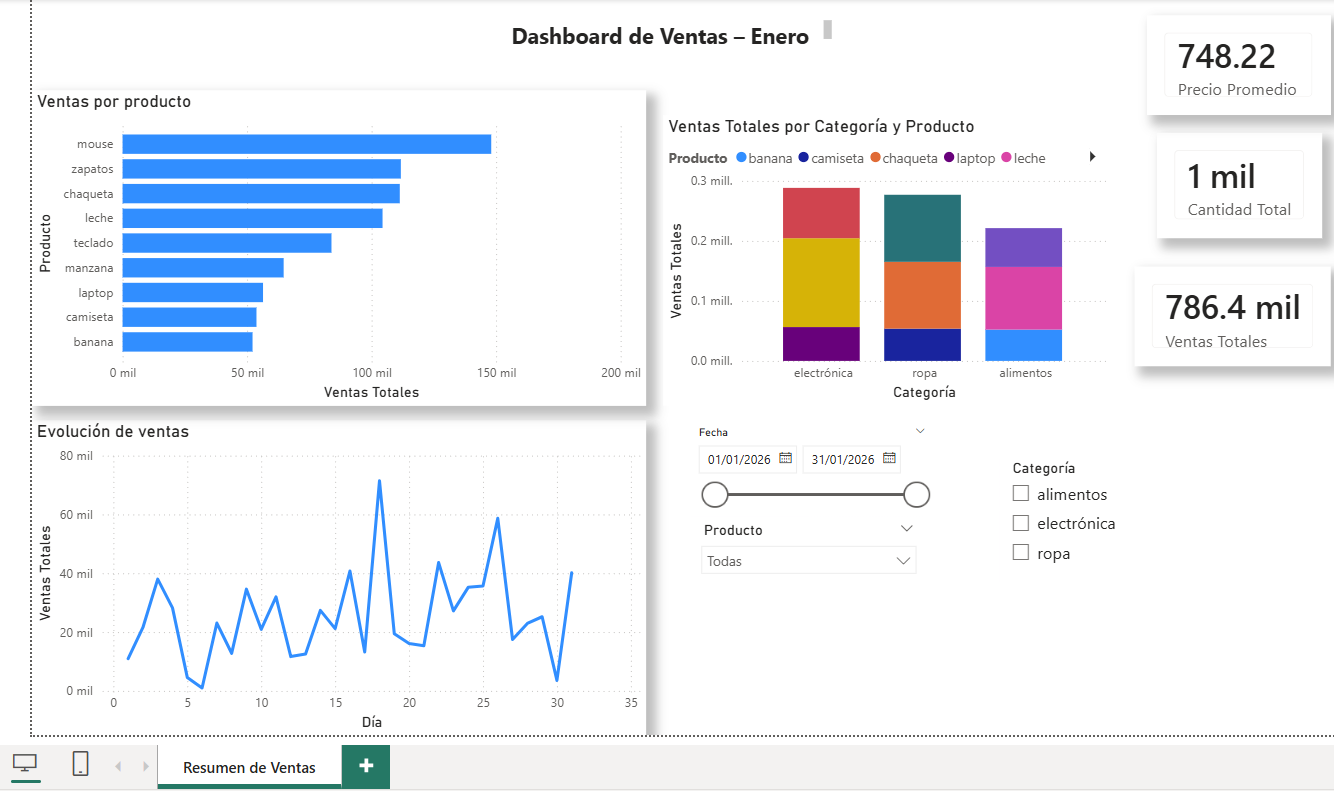

What the dashboard file says about the page in this screenshot:
{"tool":"powerbi","page":{"name":"Resumen de Ventas","canvas":[1280,720],"ordinal":0},"visuals":[{"type":"cardVisual","fields":{"Data":["ventas_limpias.Ventas Totales"]},"box":[1078.6,262.1,192.1,97.4],"z":0},{"type":"cardVisual","fields":{"Data":["ventas_limpias.Cantidad Total"]},"box":[1100.5,130.4,161.9,102.9],"z":1},{"type":"cardVisual","fields":{"Data":["ventas_limpias.Precio Promedio"]},"box":[1090.9,16.5,179.8,97.4],"z":2},{"type":"lineChart","title":"Evolución de ventas","fields":{"Category":["Dim_Fecha.Date.Variación.Jerarquía de fechas.Año","Dim_Fecha.Date.Variación.Jerarquía de fechas.Trimestre","Dim_Fecha.Date.Variación.Jerarquía de fechas.Mes","Dim_Fecha.Date.Variación.Jerarquía de fechas.Día"],"Y":["ventas_limpias.Ventas Totales"]},"box":[0,411.7,601,308.7],"z":3},{"type":"barChart","title":"Ventas por producto","fields":{"Y":["ventas_limpias.Ventas Totales"],"Category":["Dim_Producto.Producto"]},"box":[0,89.2,601,308.7],"z":4},{"type":"columnChart","fields":{"Category":["Dim_Categoría.Categoría"],"Y":["ventas_limpias.Ventas Totales"],"Series":["Dim_Producto.Producto"]},"box":[617.5,113.9,439.1,284],"z":5},{"type":"slicer","fields":{"Values":["ventas_limpias.Fecha"]},"box":[639.5,411.7,247,94.7],"z":6},{"type":"slicer","fields":{"Values":["Dim_Producto.Producto"]},"box":[644.9,506.3,230.5,60.4],"z":7},{"type":"slicer","fields":{"Values":["Dim_Producto.Categoría"]},"box":[946.8,444.6,192.1,124.9],"z":8},{"type":"textbox","box":[448.7,16.5,338.9,42.5],"z":9}]}

Visuals, with their boxes on the page's 1280x720 design canvas (x1, y1, x2, y2). These are canvas units, not pixel positions in the 1334x791 screenshot, which may show the page scaled, cropped or inside an application window:
cardVisual - ventas_limpias.Ventas Totales: box(1079, 262, 1271, 360)
cardVisual - ventas_limpias.Cantidad Total: box(1100, 130, 1262, 233)
cardVisual - ventas_limpias.Precio Promedio: box(1091, 16, 1271, 114)
"Evolución de ventas" lineChart: box(0, 412, 601, 720)
"Ventas por producto" barChart: box(0, 89, 601, 398)
columnChart - Dim_Categoría.Categoría x ventas_limpias.Ventas Totales: box(618, 114, 1057, 398)
slicer - ventas_limpias.Fecha: box(640, 412, 886, 506)
slicer - Dim_Producto.Producto: box(645, 506, 875, 567)
slicer - Dim_Producto.Categoría: box(947, 445, 1139, 570)
textbox: box(449, 16, 788, 59)
